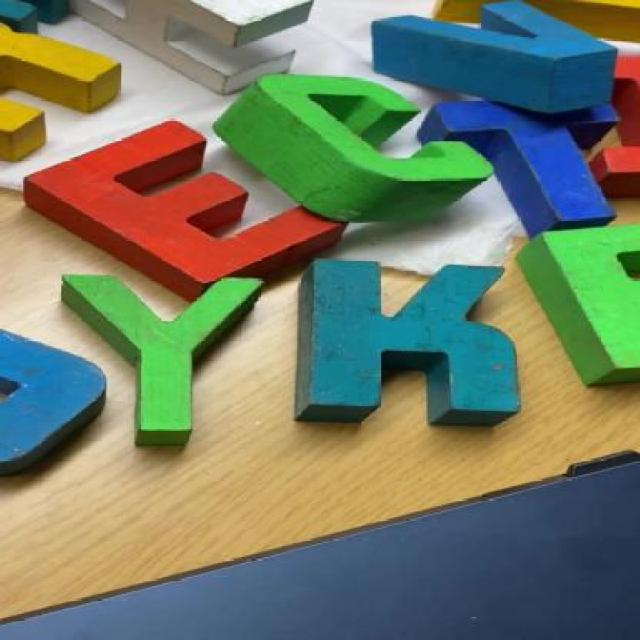C: (203, 67, 492, 224)
E: (36, 126, 356, 286)
K: (278, 263, 528, 426)
T: (452, 101, 618, 225)
V: (364, 4, 639, 114)
Y: (54, 270, 274, 455)
